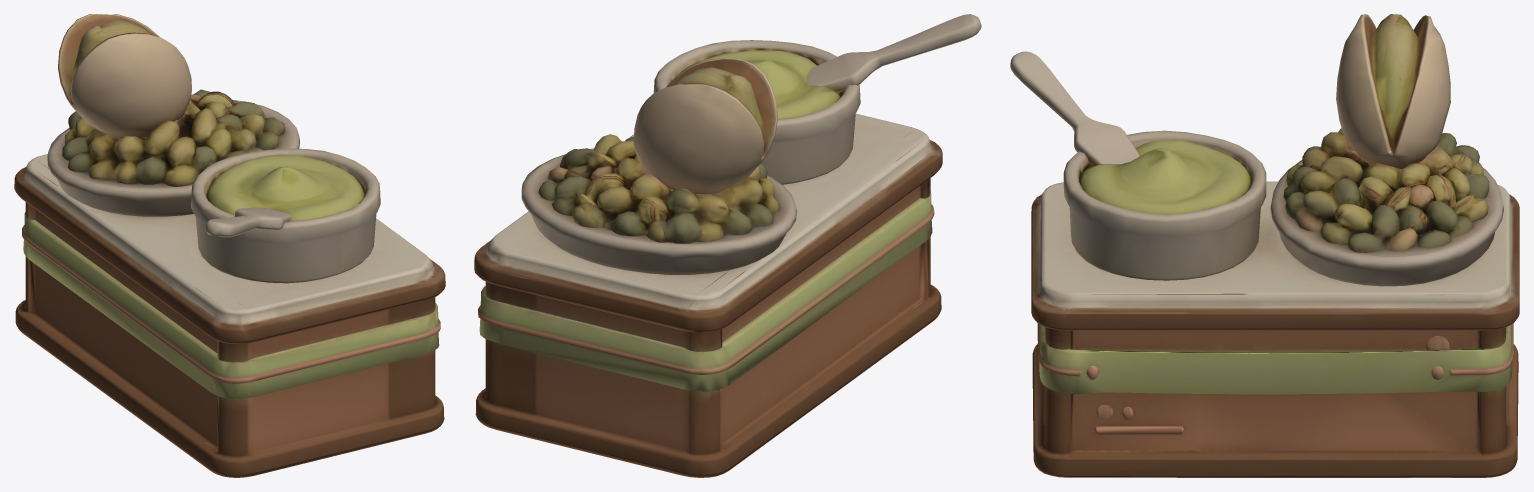
The model's file is IT_사물_s4_topping_station.glb.
The picture shows the model from 3 angles, left to right: view 1: azimuth 30°, elevation 25°; view 2: azimuth 150°, elevation 25°; view 3: azimuth 270°, elevation 25°; orthographic projection. The views are drawn at different scales.
Parts seen in each view (by area): view 1: tripo_node_a0293151-b4e7-4c71-8f5f-9a6549c73f52; view 2: tripo_node_a0293151-b4e7-4c71-8f5f-9a6549c73f52; view 3: tripo_node_a0293151-b4e7-4c71-8f5f-9a6549c73f52.
Part boxes in pixels (x1,y1,x2,y2): tripo_node_a0293151-b4e7-4c71-8f5f-9a6549c73f52: [14, 14, 445, 477]; tripo_node_a0293151-b4e7-4c71-8f5f-9a6549c73f52: [474, 14, 981, 477]; tripo_node_a0293151-b4e7-4c71-8f5f-9a6549c73f52: [1010, 14, 1519, 477].
Bounding box in the file's own units: 0.6284 × 0.7837 × 0.9995.
Materials: 1 (1 with a texture image).
